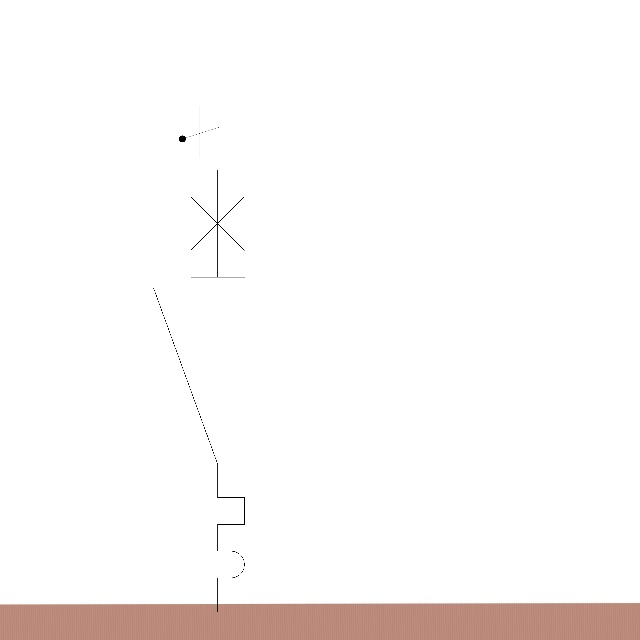interruptor_termomagnetico: (142, 158, 256, 622)
